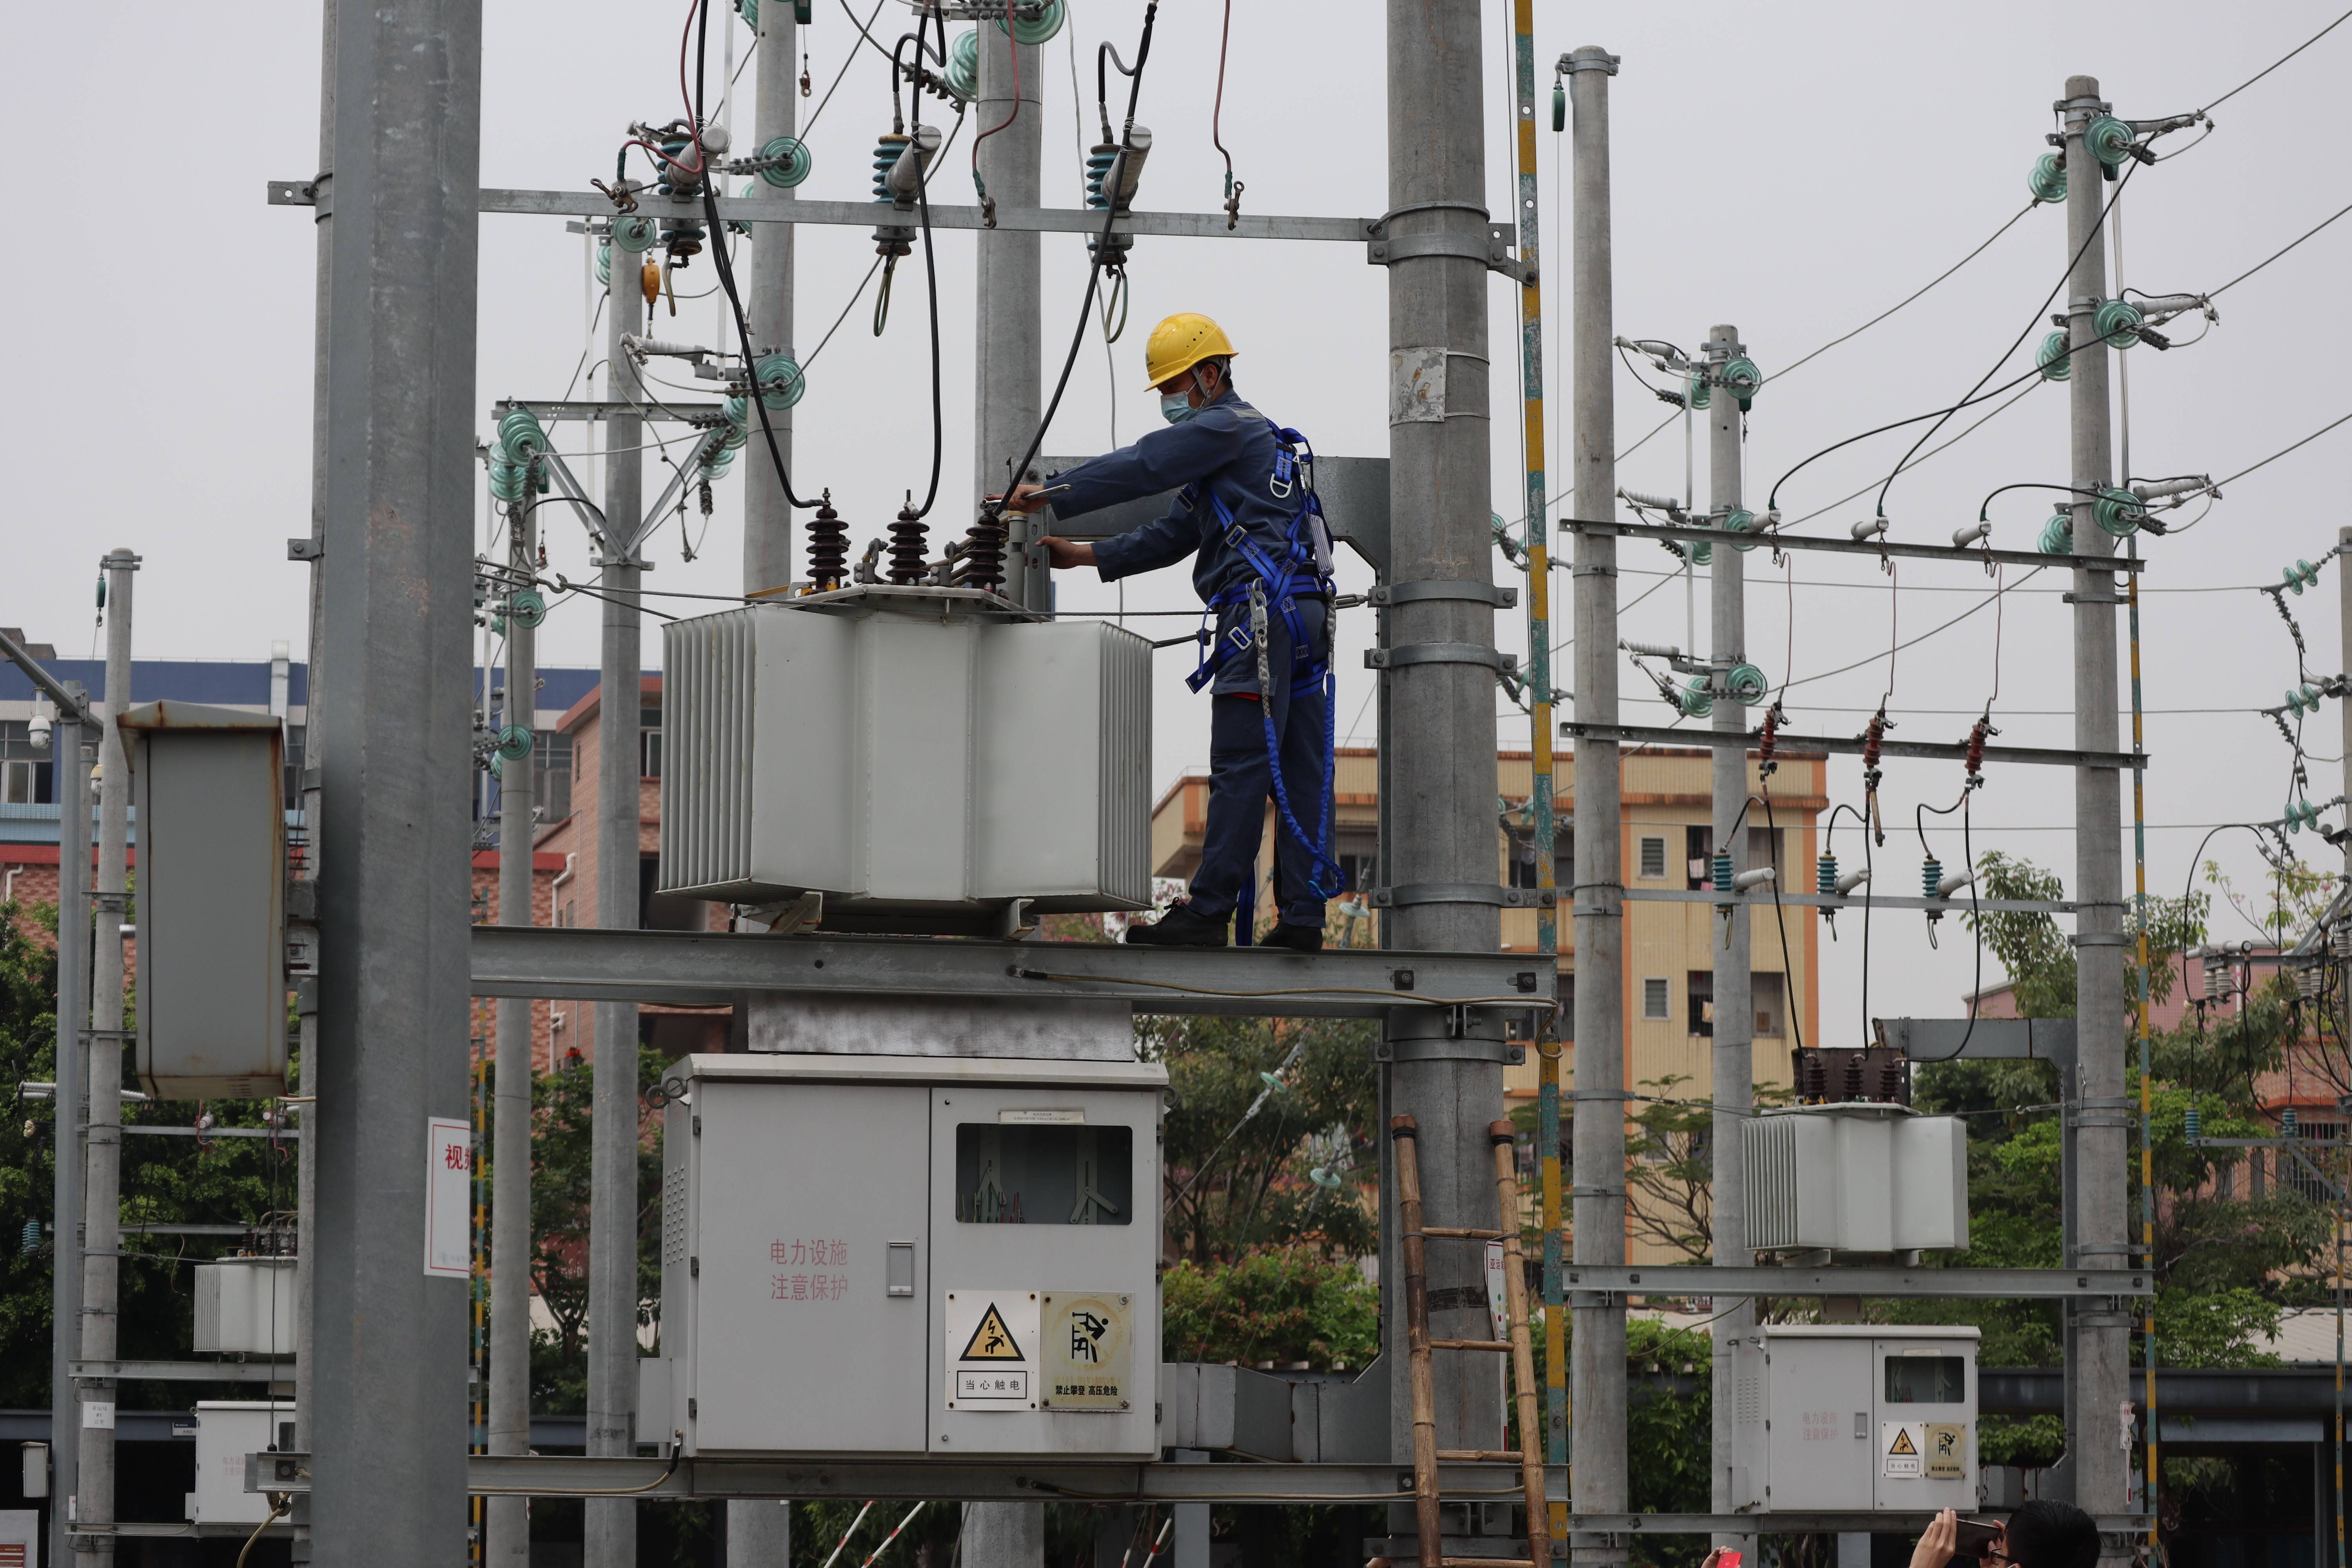downsuit: (1192, 590, 1341, 915)
upsuit: (1050, 397, 1326, 581)
